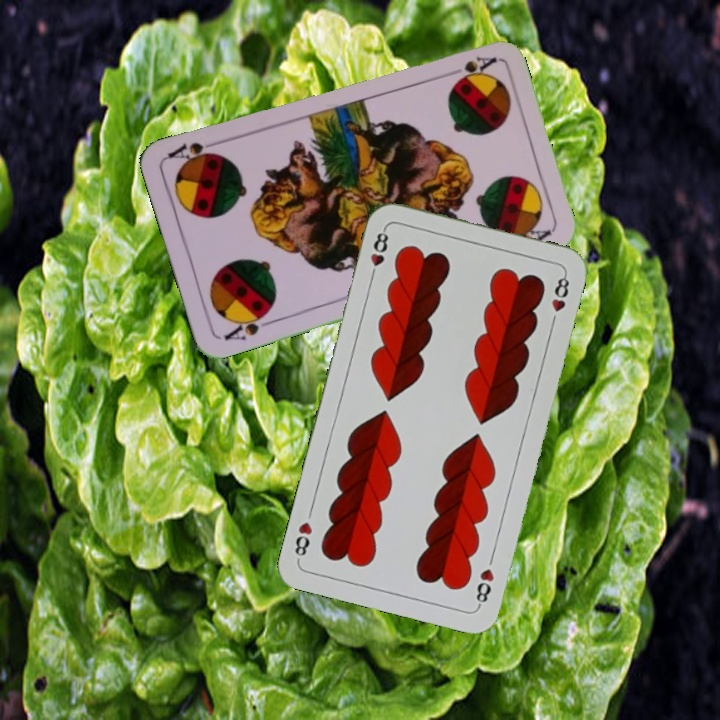H8: (366, 224, 391, 282), (472, 564, 497, 610)
SA: (220, 307, 276, 343), (453, 52, 499, 82)
